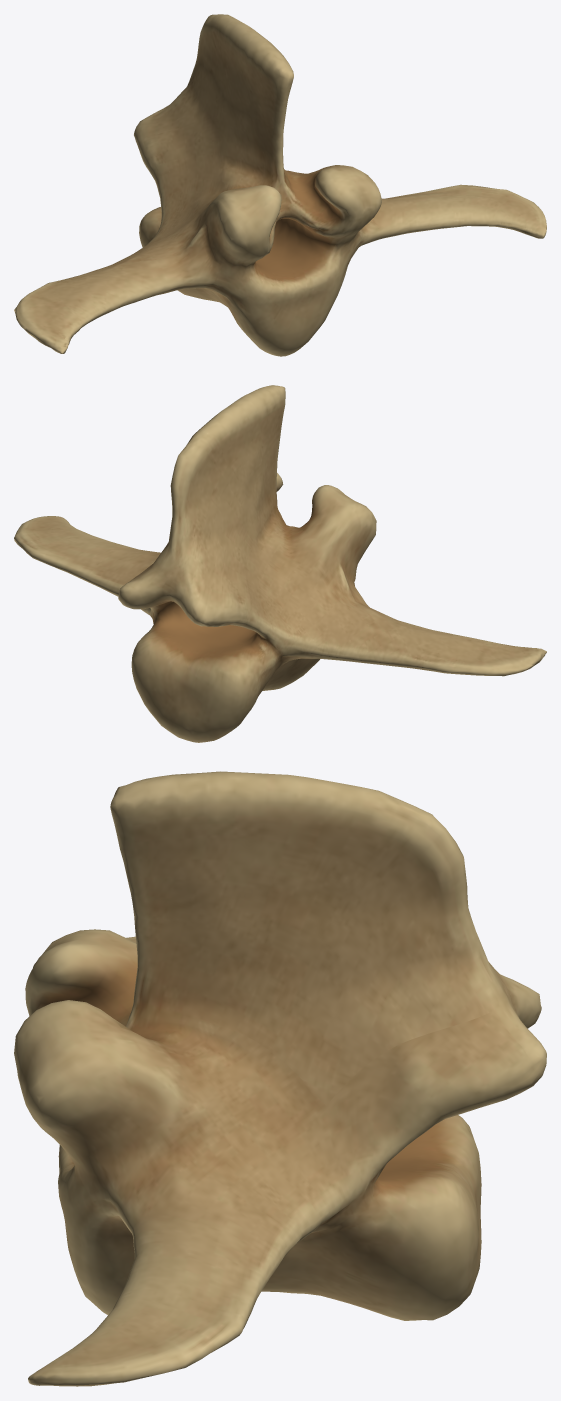
3 views of the same model, one above another, from view 1: azimuth 30°, elevation 25°; view 2: azimuth 150°, elevation 25°; view 3: azimuth 270°, elevation 25° (orthographic). The views are drawn at different scales.
Visible parts, largest first — view 1: Group58594; view 2: Group58594; view 3: Group58594.
Part boxes in pixels (x1,y1,x2,y2): Group58594: [14, 14, 546, 356]; Group58594: [14, 385, 546, 742]; Group58594: [14, 771, 546, 1386].
Size of the model in its own units: 125 by 70.53 by 62.02.
1 material, 1 textured.
